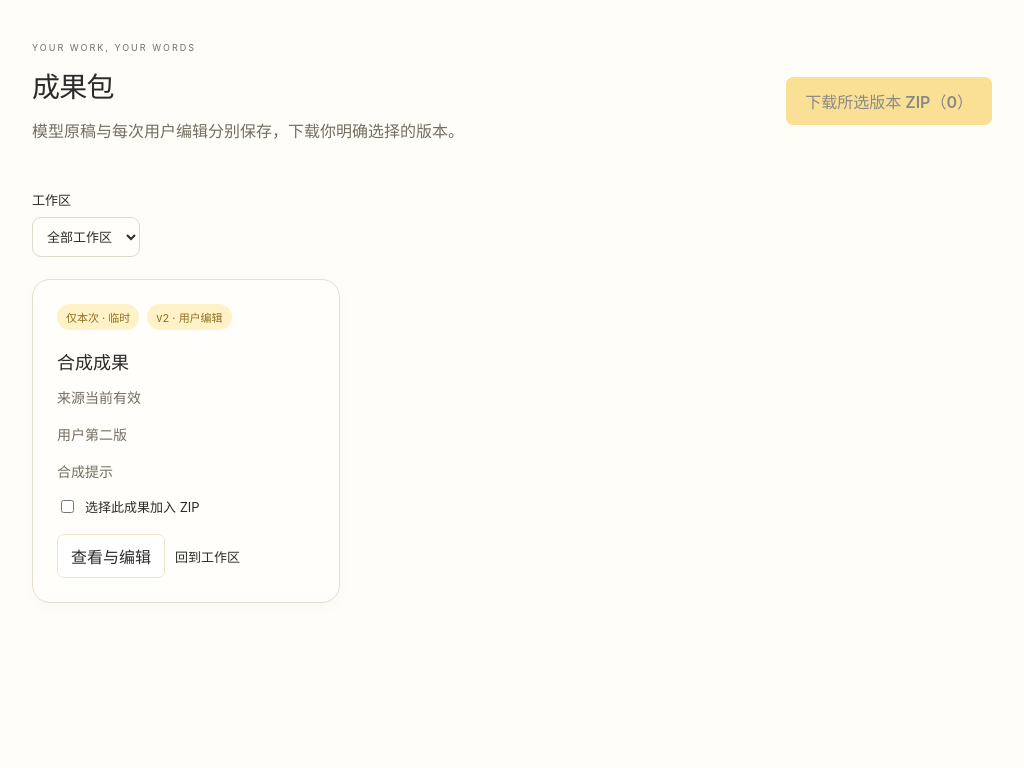
Test case: 下载后保留服务端所选版本的保存入口，切换版本时撤回旧入口
This screenshot has width=1024, height=768.
Click the button with aria-label "查看与编辑 合成成果".
click(111, 556)  # box [57,534,165,578]
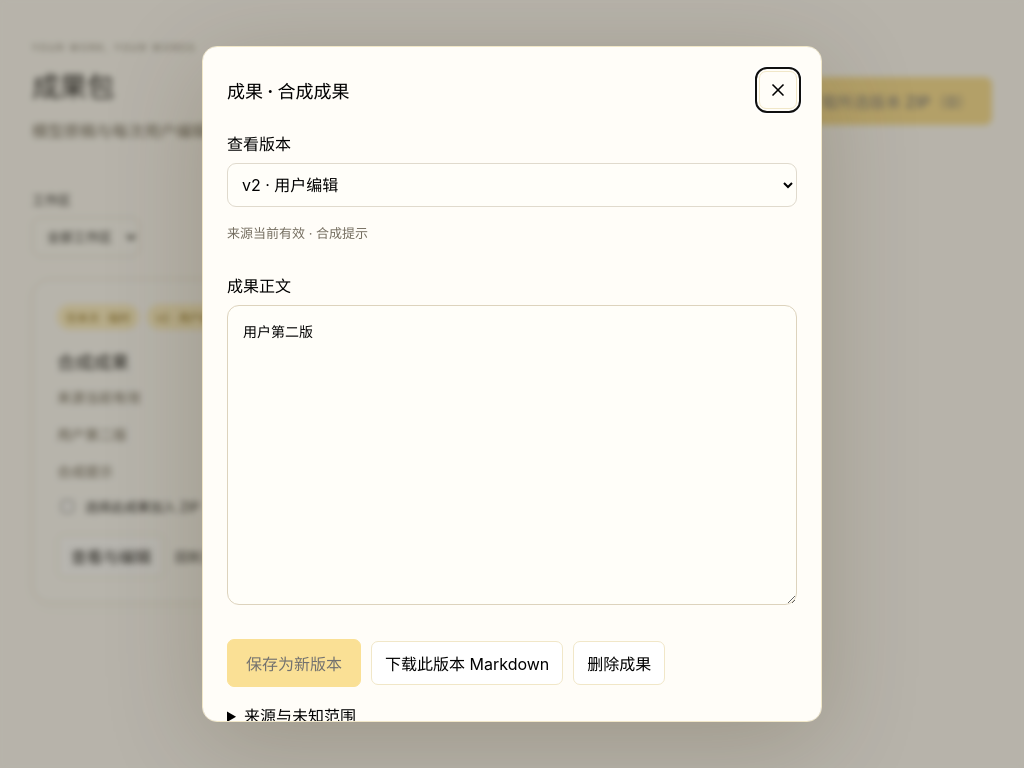
Expected: the text box labelled "成果正文" is shown, [227,305,797,605]
Click the button "下载此版本 Markdown".
click(467, 663)  # box [371,641,563,685]
(page scrolled)
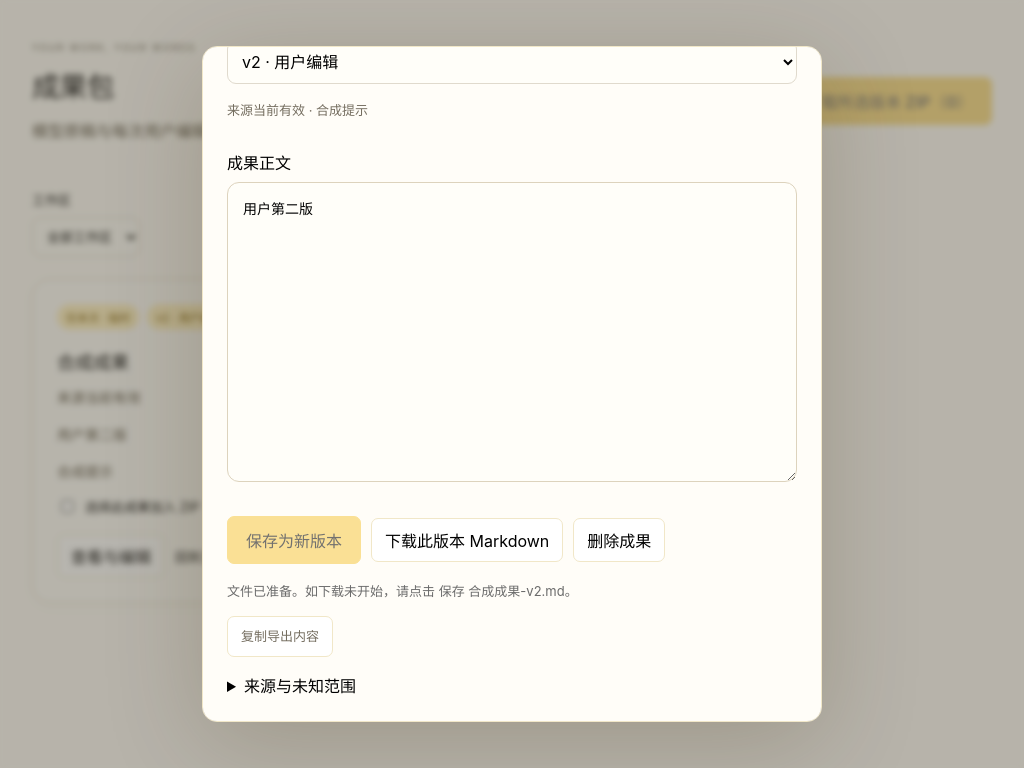
Click the button "复制导出内容".
click(280, 637)  # box [227,616,333,657]
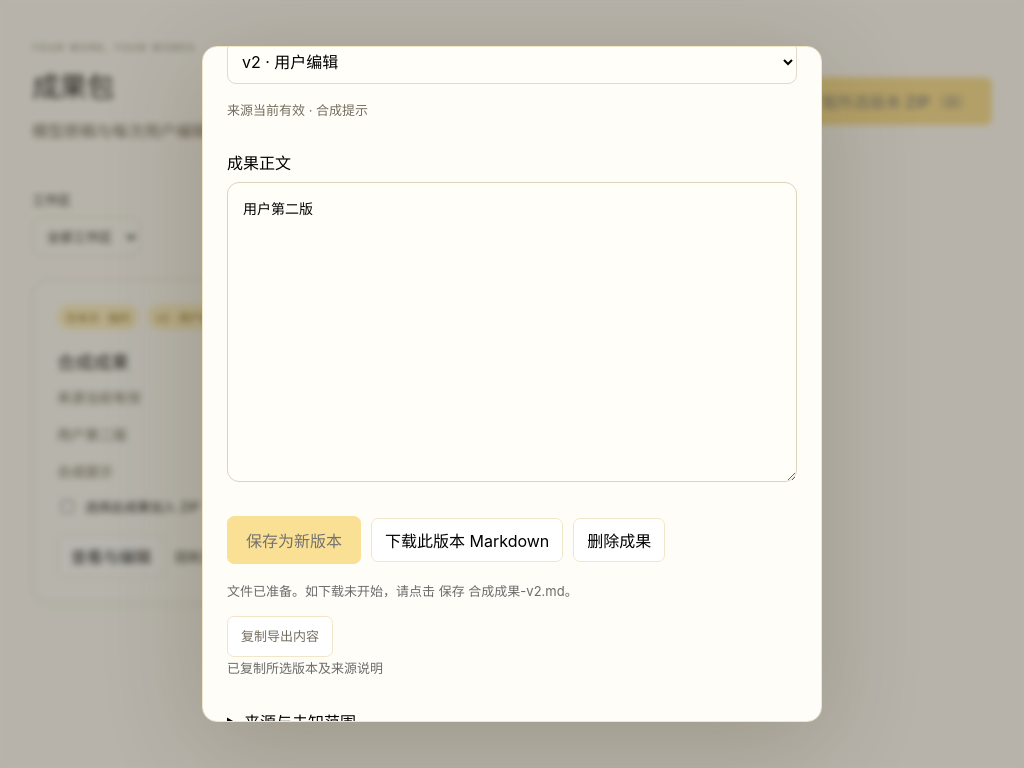
Expected: the text "已复制所选版本及来源说明" is shown, [227,660,383,676]
Select "v1 · 用户编辑 · 历史" in the dropdown labelled "查看版本" at [512, 62], box [227,40,797,84]
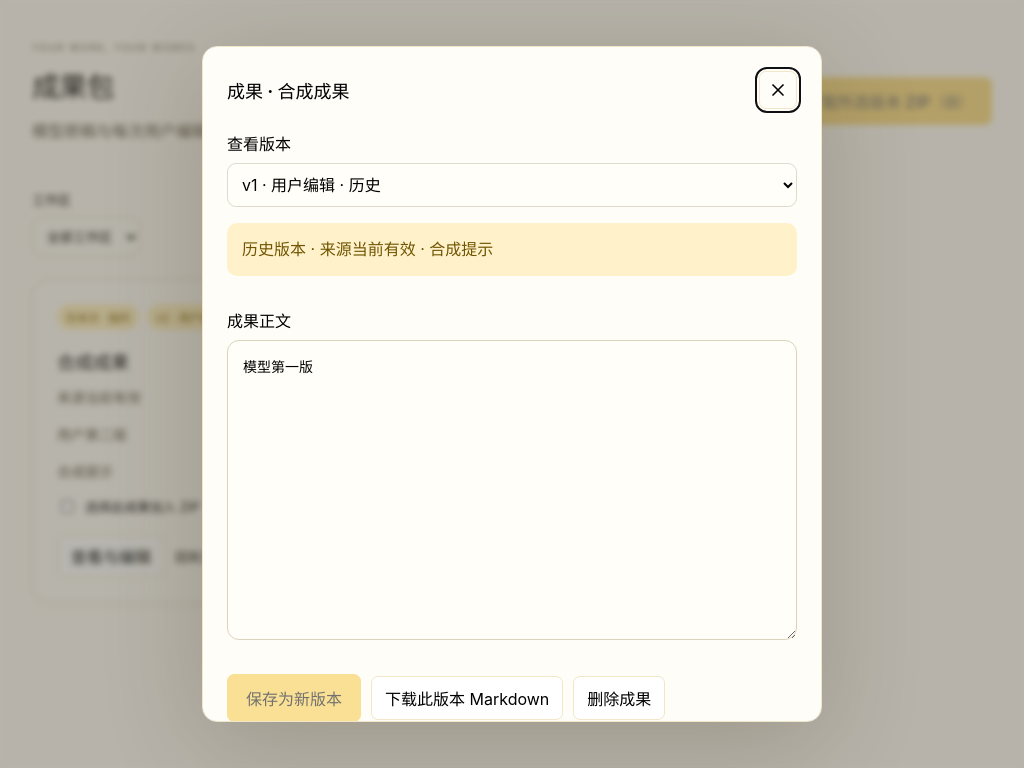
Expected: the link "保存 合成成果-v2.md" is gone
